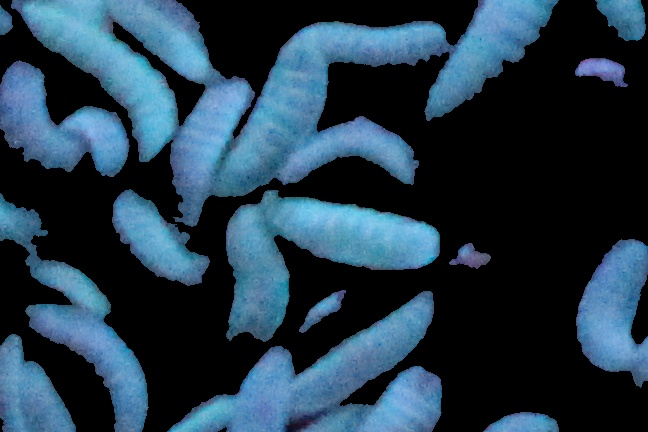larvae: (18, 4, 178, 163), (281, 289, 442, 414), (23, 306, 155, 432), (424, 1, 560, 120), (223, 48, 329, 193), (165, 79, 253, 238), (265, 194, 444, 271), (278, 114, 418, 186), (574, 238, 648, 374), (111, 191, 213, 286), (117, 1, 224, 85), (224, 207, 290, 339), (303, 19, 456, 75), (1, 60, 80, 168), (231, 346, 298, 432), (28, 248, 109, 316), (369, 366, 448, 432), (21, 360, 91, 432), (65, 106, 131, 176), (1, 332, 36, 432), (161, 387, 237, 432)
